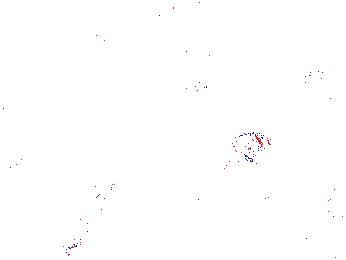X-ray fish: (210, 131, 271, 171)
glassfish: (182, 125, 274, 199), (70, 162, 127, 249)
red belly glassfish: (161, 78, 210, 94), (300, 67, 340, 85)
redtail glassfish: (161, 45, 230, 74), (153, 1, 221, 20)
